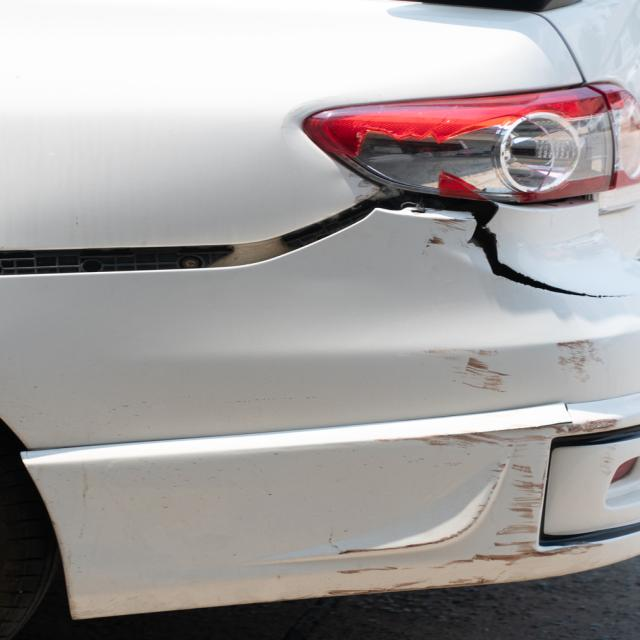crack: (467, 205, 637, 300)
lamp broken: (304, 85, 614, 203)
scratch: (326, 416, 624, 595), (417, 345, 514, 392), (556, 337, 601, 383), (418, 215, 465, 255)
